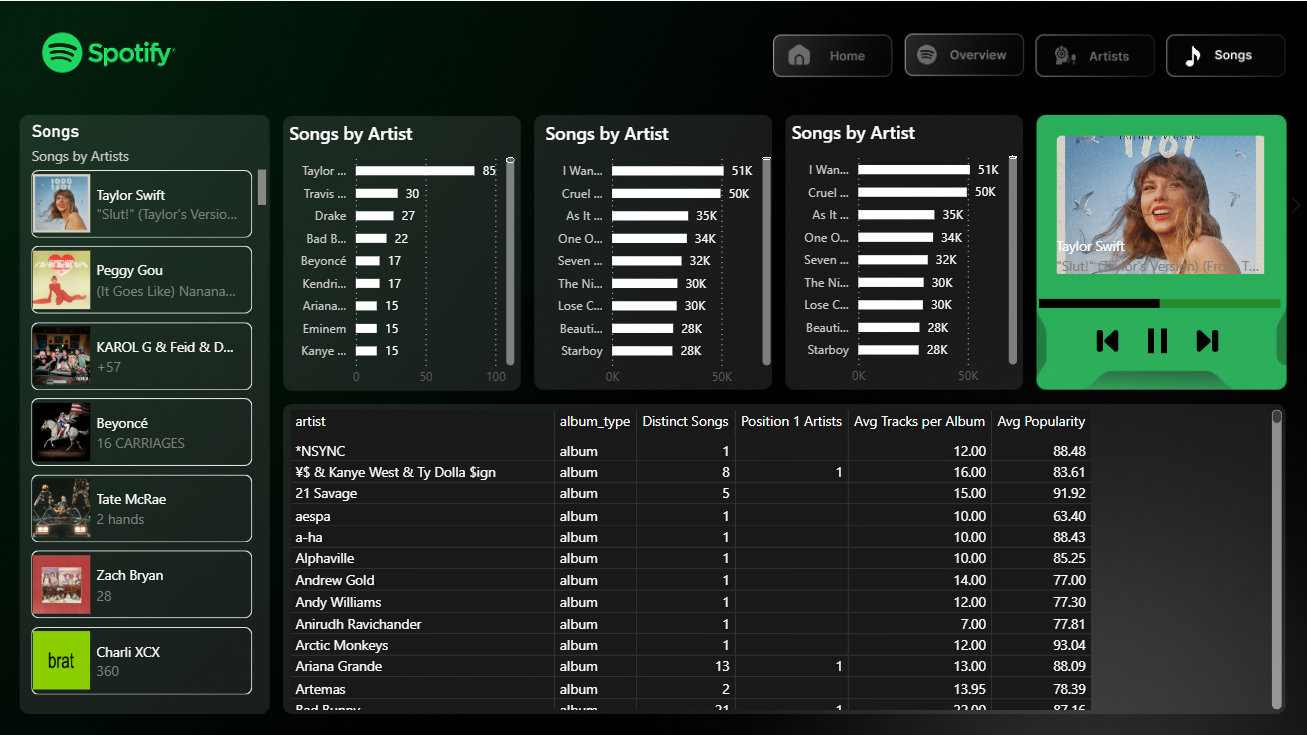

The dashboard page shown, as its layout file describes it:
{"tool":"powerbi","page":{"name":"Songs","canvas":[1280,720],"ordinal":2},"visuals":[{"type":"actionButton","box":[755.4,33.1,117.2,40.4],"z":0},{"type":"actionButton","box":[884.3,34.4,117.2,40.4],"z":1000},{"type":"actionButton","box":[1010.7,33.1,117.2,40.4],"z":2000},{"type":"actionButton","box":[1138.3,34.4,117.2,40.4],"z":3000},{"type":"advancedSlicerVisual","title":"Songs","fields":{"Values":["Top-50-World.song"]},"box":[985.9,104.2,294.3,187.5],"z":4000},{"type":"hundredPercentStackedBarChart","fields":{"Y":["_Measures.Avg Popularity","Avg(Top-50-World.popularity)"]},"box":[1010.7,252.7,244.9,76.8],"z":5000},{"type":"group","id":"g1","title":"Group 1","box":[1062.8,317.8,135.5,23.4],"z":6000},{"type":"shape","box":[1009.4,91.2,256.6,291.7],"z":7000},{"type":"clusteredBarChart","title":"Songs by Artist","fields":{"Y":["_Measures.Distinct Songs"],"Category":["Top-50-World.artist"]},"box":[281.6,116.1,229.2,266.6],"z":8000},{"type":"clusteredBarChart","title":"Songs by Artist","fields":{"Category":["Top-50-World.song"],"Y":["Sum(Top-50-World.popularity)"]},"box":[531.4,116.1,229.2,266.6],"z":9000},{"type":"clusteredBarChart","title":"Songs by Artist","fields":{"Category":["Top-50-World.song"],"Y":["Sum(Top-50-World.popularity)"]},"box":[769.7,115.9,229.2,267],"z":10000},{"type":"advancedSlicerVisual","title":"Songs","fields":{"Values":["Top-50-World.song"]},"box":[31,116.2,238.8,562.7],"z":11000},{"type":"tableEx","fields":{"Values":["Top-50-World.artist","Top-50-World.album_type","_Measures.Distinct Songs","_Measures.Position 1 Artists","_Measures.Avg Tracks per Album","_Measures.Avg Popularity"]},"box":[281.3,392.3,974.4,300.7],"z":12000},{"type":"image","box":[1062.8,317.8,38.6,23.8],"z":20000,"group":"g1"},{"type":"image","box":[1159.6,317.8,38.6,23.8],"z":21000,"group":"g1"},{"type":"image","box":[1111.2,317.8,38.6,23.8],"z":22000,"group":"g1"}]}

Visuals, with their boxes in screenshot pixels (x1, y1, x2, y2), scaled from the page's 1280x720 canvas onto the 1307x735 screenshot:
actionButton: (x1=771, y1=34, x2=891, y2=75)
actionButton: (x1=903, y1=35, x2=1023, y2=76)
actionButton: (x1=1032, y1=34, x2=1152, y2=75)
actionButton: (x1=1162, y1=35, x2=1282, y2=76)
"Songs" advancedSlicerVisual: (x1=1007, y1=106, x2=1306, y2=298)
hundredPercentStackedBarChart - _Measures.Avg Popularity x Avg(Top-50-World.popularity): (x1=1032, y1=258, x2=1282, y2=336)
"Group 1" group: (x1=1085, y1=324, x2=1224, y2=348)
shape: (x1=1031, y1=93, x2=1293, y2=391)
"Songs by Artist" clusteredBarChart: (x1=288, y1=119, x2=522, y2=391)
"Songs by Artist" clusteredBarChart: (x1=543, y1=119, x2=777, y2=391)
"Songs by Artist" clusteredBarChart: (x1=786, y1=118, x2=1020, y2=391)
"Songs" advancedSlicerVisual: (x1=32, y1=119, x2=275, y2=693)
tableEx - Top-50-World.artist x Top-50-World.album_type: (x1=287, y1=400, x2=1282, y2=707)
image: (x1=1085, y1=324, x2=1125, y2=349)
image: (x1=1184, y1=324, x2=1223, y2=349)
image: (x1=1135, y1=324, x2=1174, y2=349)
